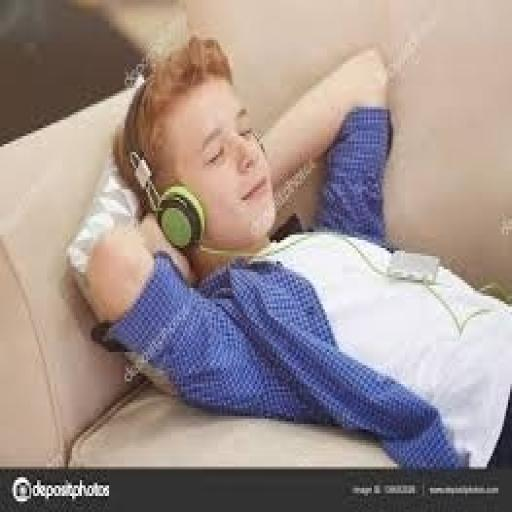listening_to_music: (76, 29, 510, 472)
